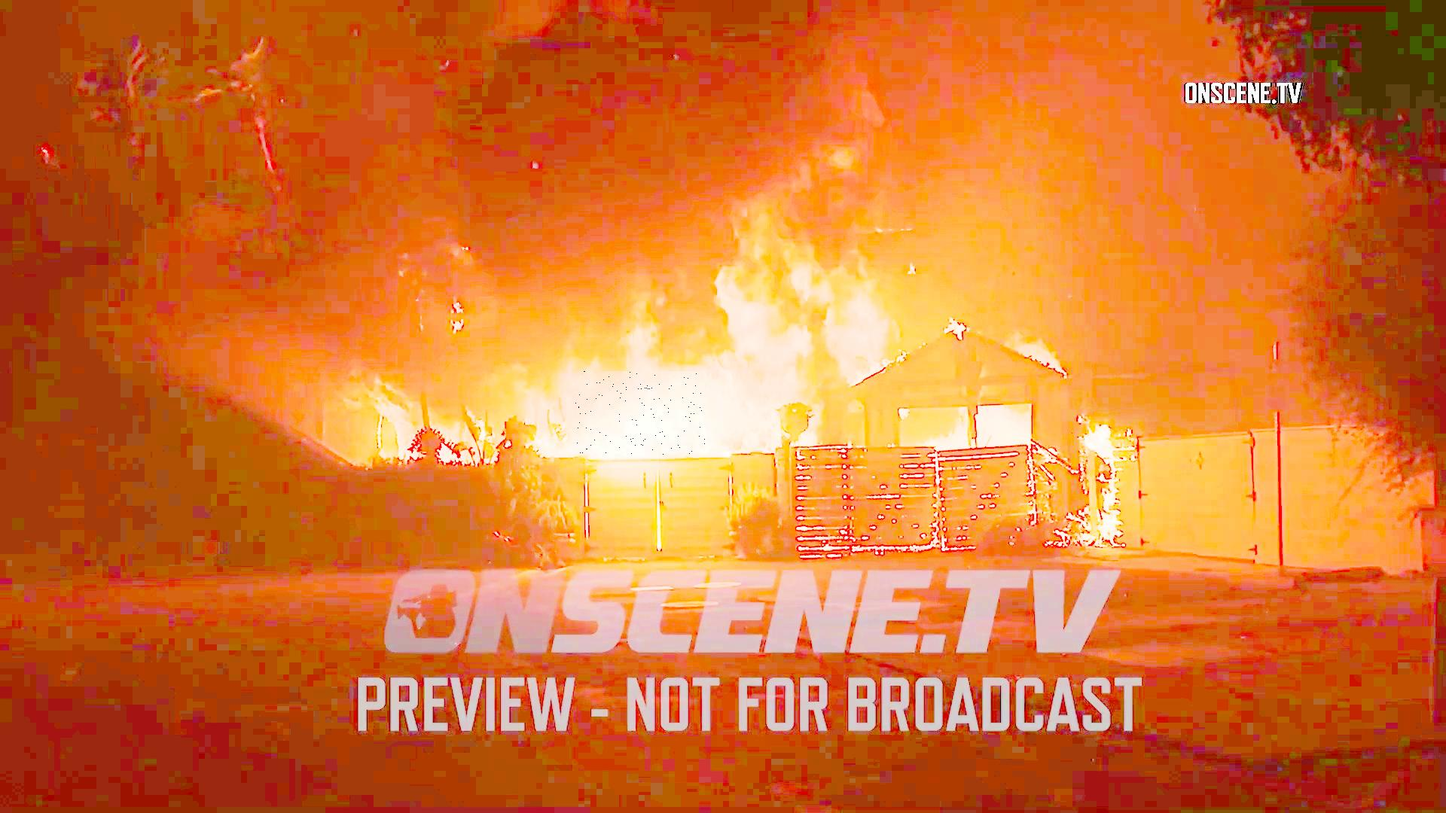fire: (573, 371, 706, 455)
